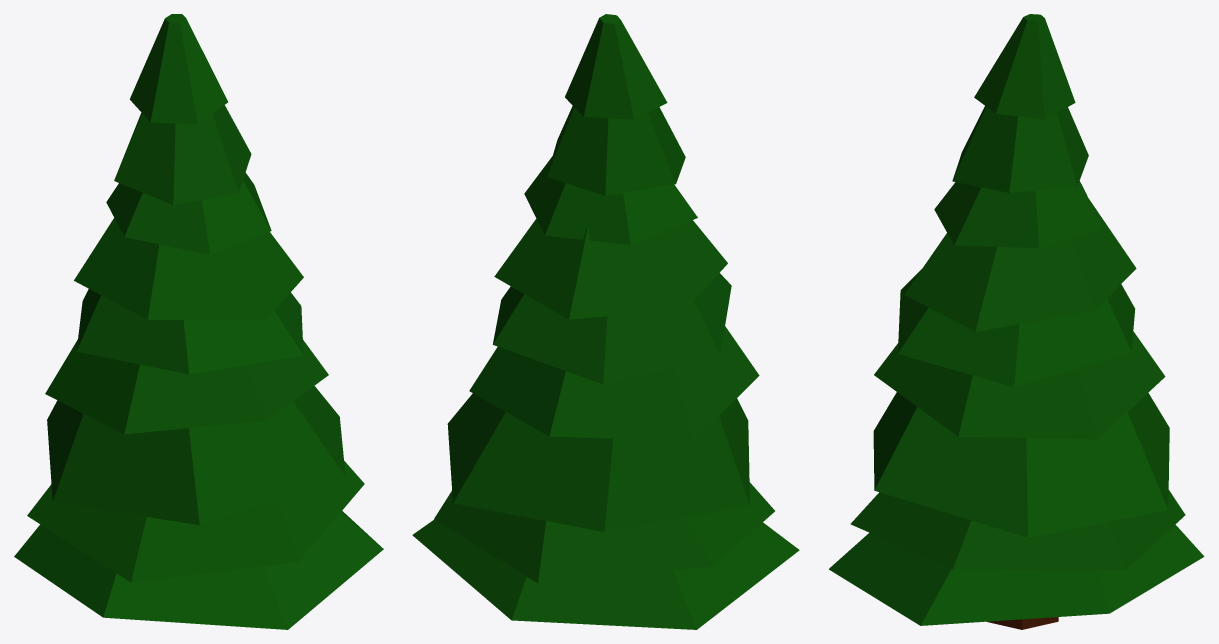
The model's file is BigTree.fbx.
3 views of the same model, side by side, from view 1: azimuth 30°, elevation 25°; view 2: azimuth 150°, elevation 25°; view 3: azimuth 270°, elevation 25° (orthographic). The views are drawn at different scales.
Parts seen in each view (by area): view 1: Cylinder; view 2: Cylinder; view 3: Cylinder.
Boxes of the visible parts, <box> form: Cylinder: <box>14,14,383,629</box>; Cylinder: <box>412,14,799,629</box>; Cylinder: <box>829,14,1204,629</box>.
Bounding box in the file's own units: 9.68 × 18.41 × 10.72.
